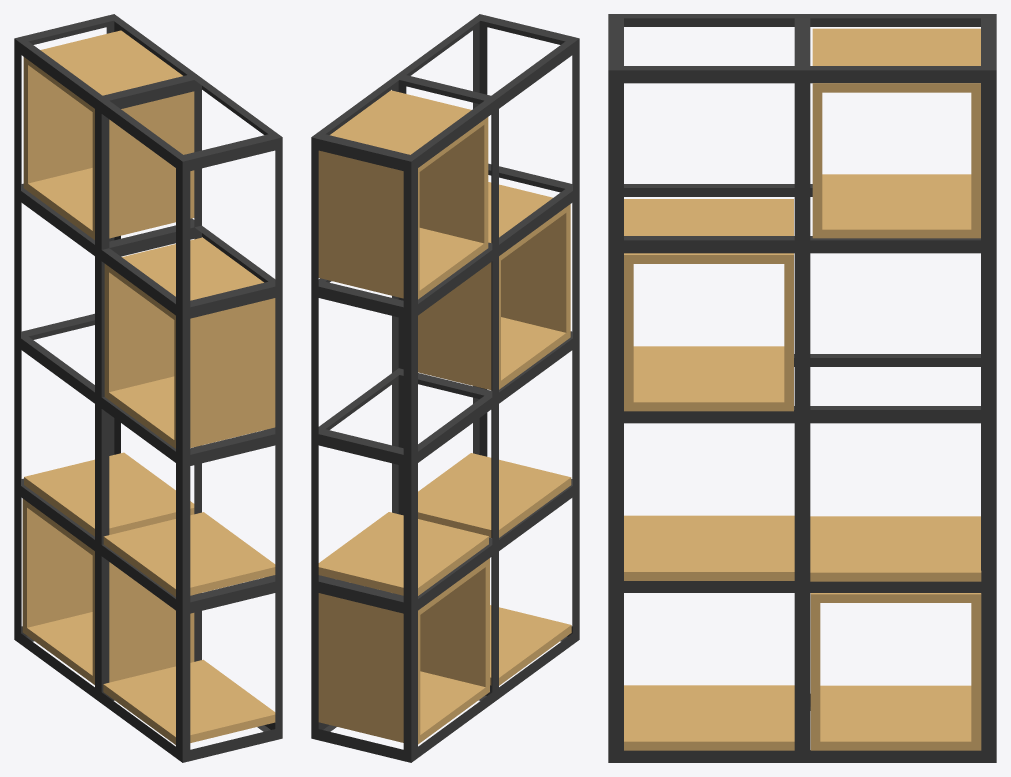
The model's file is library.glb.
The picture shows the model from 3 angles, left to right: view 1: azimuth 30°, elevation 25°; view 2: azimuth 150°, elevation 25°; view 3: azimuth 270°, elevation 25°; orthographic projection. The views are drawn at different scales.
Visible parts, largest first — view 1: Library; view 2: Library; view 3: Library.
Part boxes in pixels (x1,y1,x2,y2): Library: (14, 14, 282, 762); Library: (311, 14, 579, 762); Library: (608, 14, 996, 762).
Size of the model in its own units: 0.3618 by 2.01 by 1.02.
